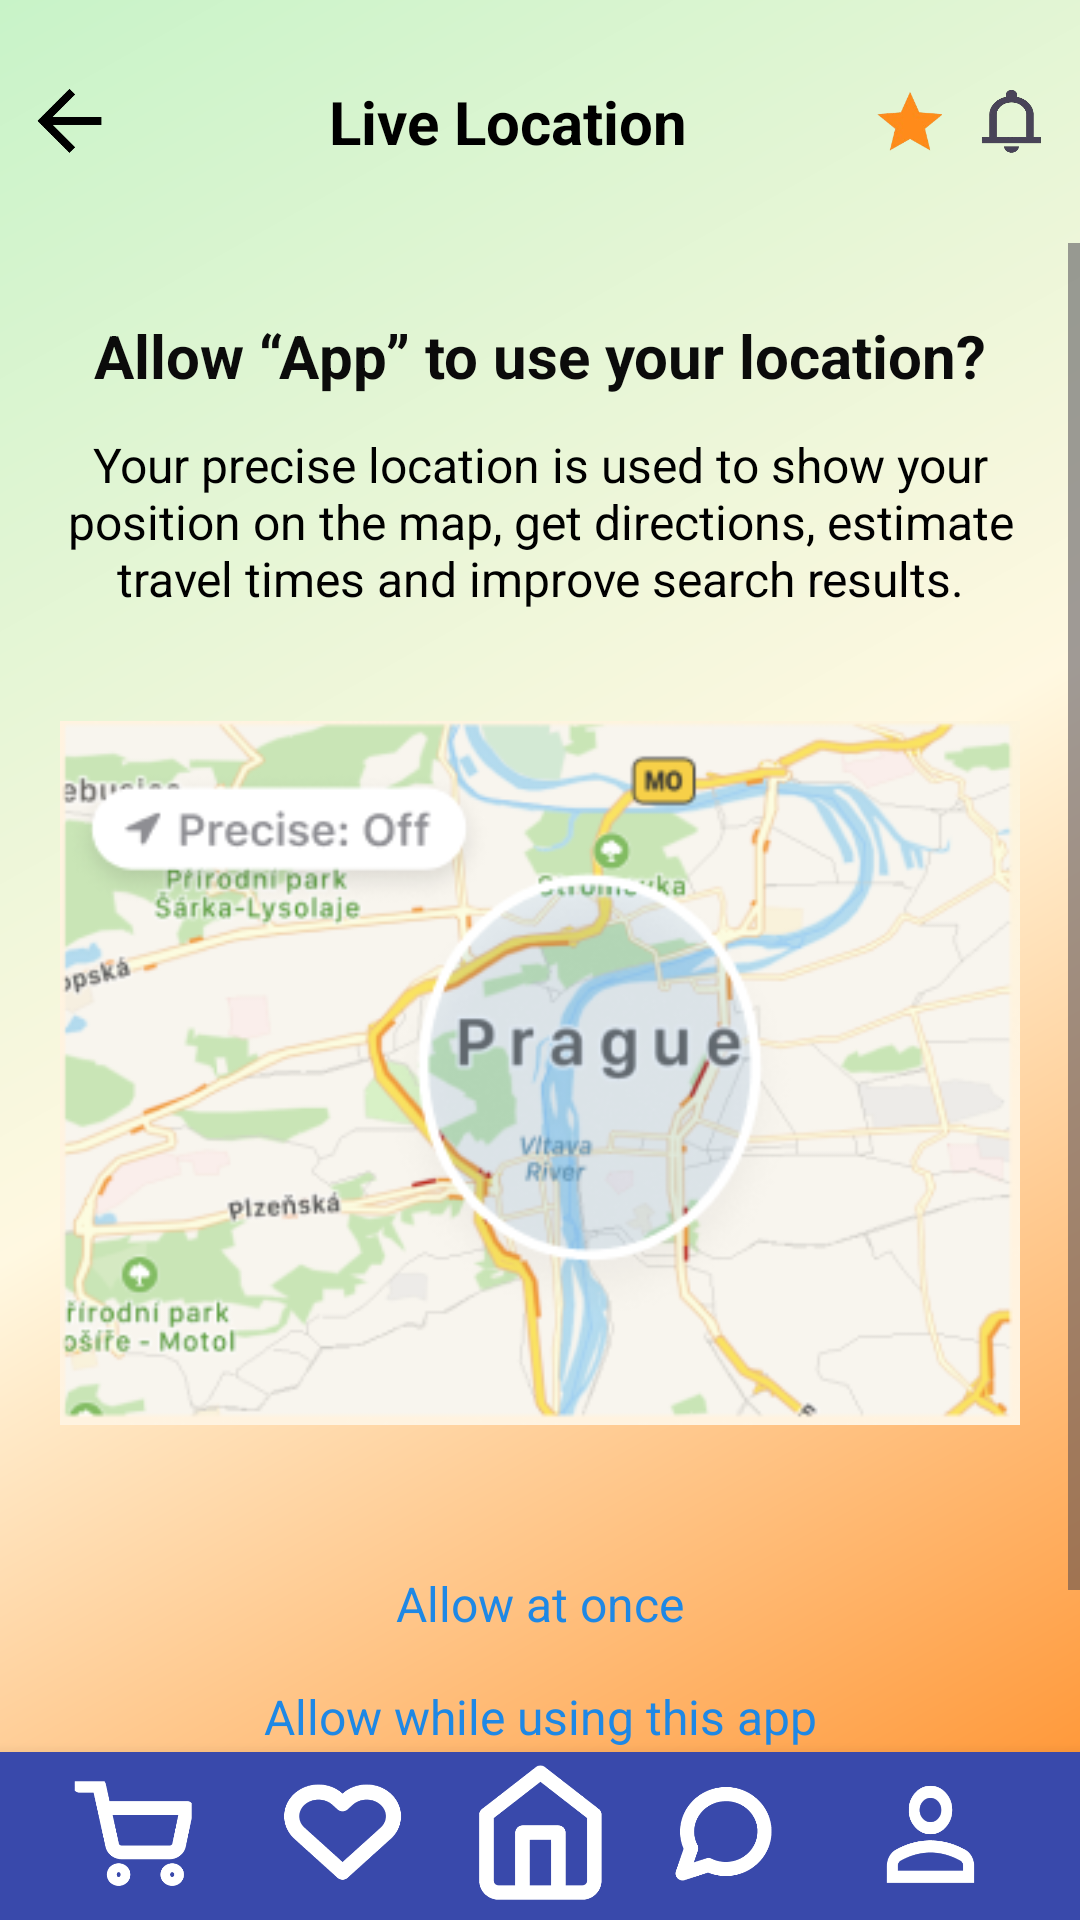

Screen size 1080 x 1920. Icon name, then its box in pixels as (x1, y1, x2, y2):
back arrow: (38, 89, 102, 153)
bell: (982, 90, 1041, 153)
menu cart: (74, 1781, 192, 1886)
menu home: (479, 1765, 602, 1900)
menu profile: (886, 1786, 974, 1883)
menu wishlist: (284, 1784, 401, 1880)
star: (877, 92, 942, 151)
